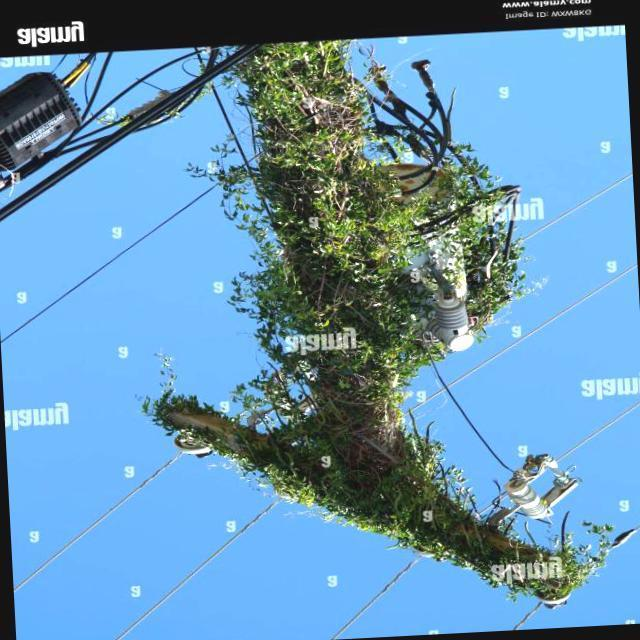critical vegetation: (162, 88, 500, 546)
